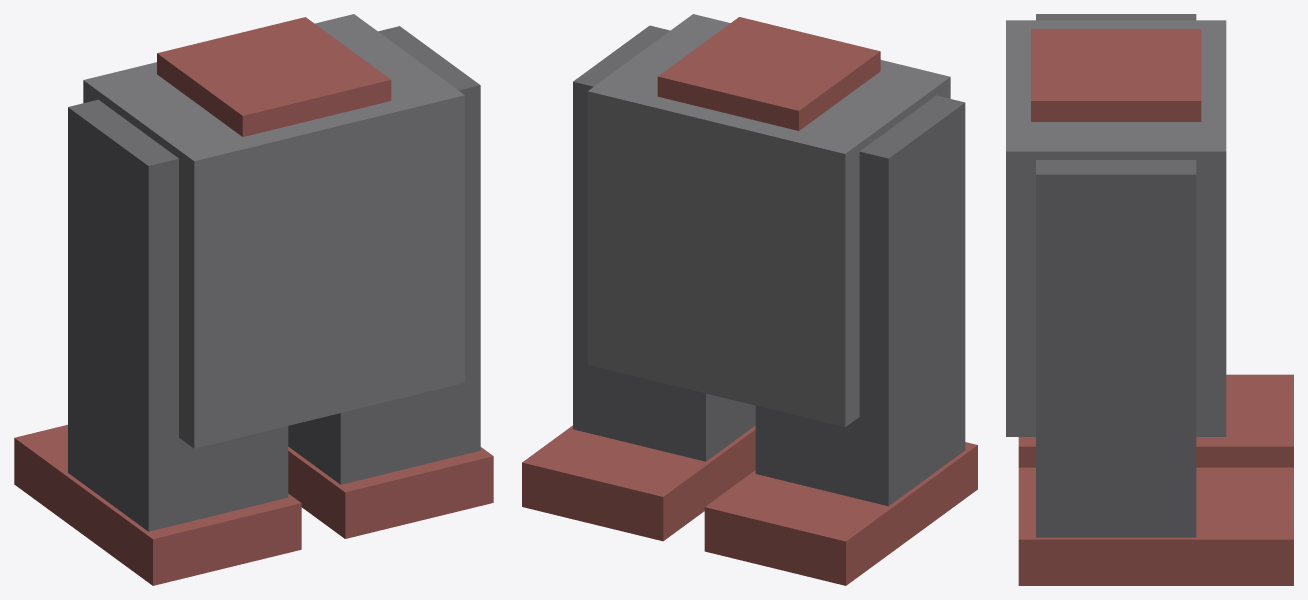
The model's file is soviet_commissar.glb.
3 renders of one model, left to right at view 1: azimuth 30°, elevation 25°; view 2: azimuth 150°, elevation 25°; view 3: azimuth 270°, elevation 25°, orthographic. The views are drawn at different scales.
Visible parts, largest first — view 1: Body, LegLeft, LegRight, Head, FootLeft, FootRight; view 2: Body, LegLeft, FootLeft, LegRight, FootRight, Head; view 3: LegRight, Body, FootRight, Head, FootLeft, LegLeft.
Boxes of the visible parts, x1,y1,x2,y2 form: Body: [83, 14, 464, 448]; LegLeft: [68, 99, 288, 531]; LegRight: [288, 26, 480, 484]; Head: [157, 17, 391, 136]; FootLeft: [14, 424, 301, 585]; FootRight: [288, 447, 493, 538]; Body: [587, 14, 950, 427]; LegLeft: [755, 95, 965, 506]; FootLeft: [704, 442, 977, 585]; LegRight: [573, 25, 755, 461]; FootRight: [522, 425, 755, 541]; Head: [657, 17, 880, 130]; LegRight: [1036, 160, 1196, 537]; Body: [1006, 20, 1226, 436]; FootRight: [1018, 467, 1293, 585]; Head: [1031, 29, 1201, 121]; FootLeft: [1018, 374, 1293, 467]; LegLeft: [1036, 14, 1196, 20].
Bounding box in the file's own units: 0.78 × 0.9668 × 0.575.
